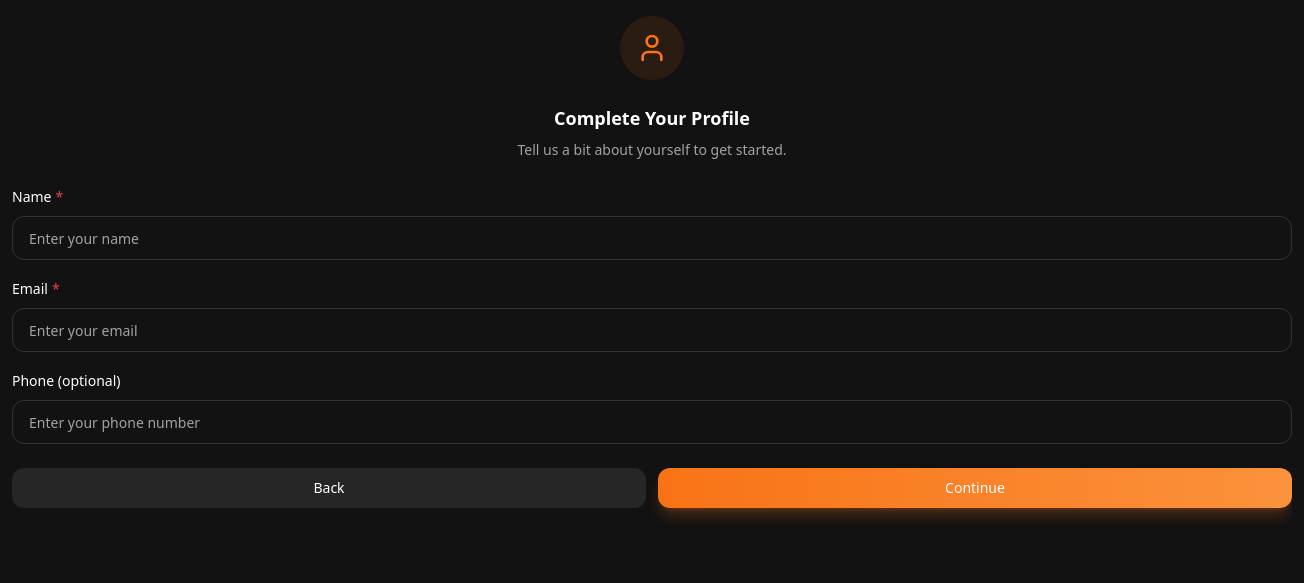
Scenario: clears a field's error once the user types in it
Click the button "Continue" at coordinates (975, 488), box [658,468,1292,508]
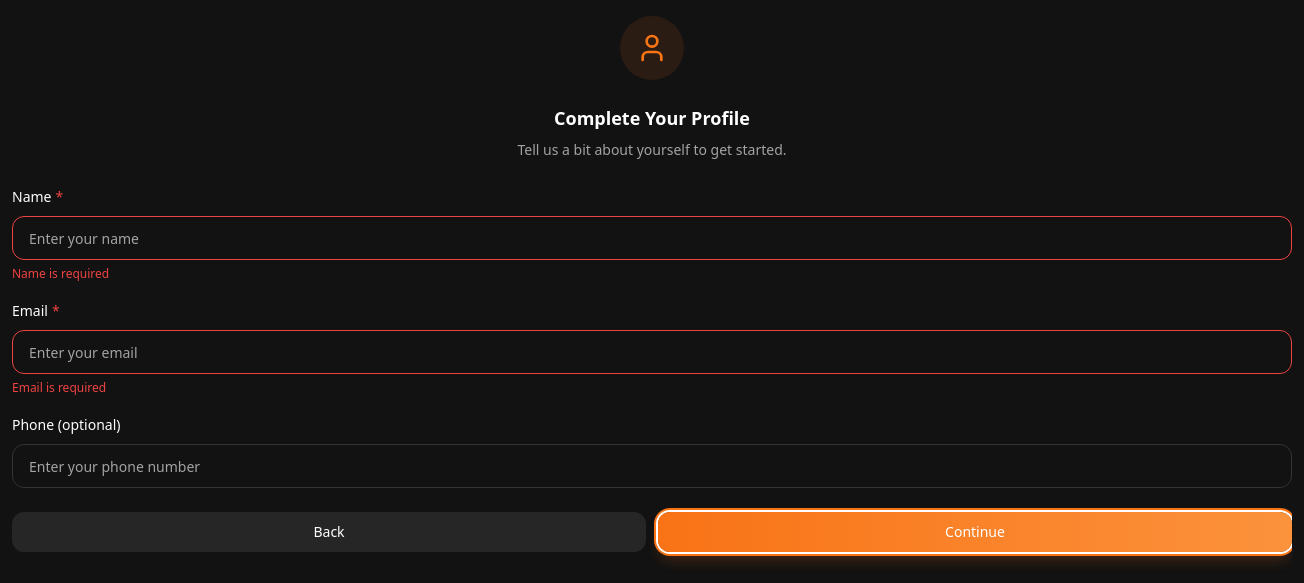
Type "A" into the field labelled "Name*" at coordinates (652, 238), box [12,216,1292,260]
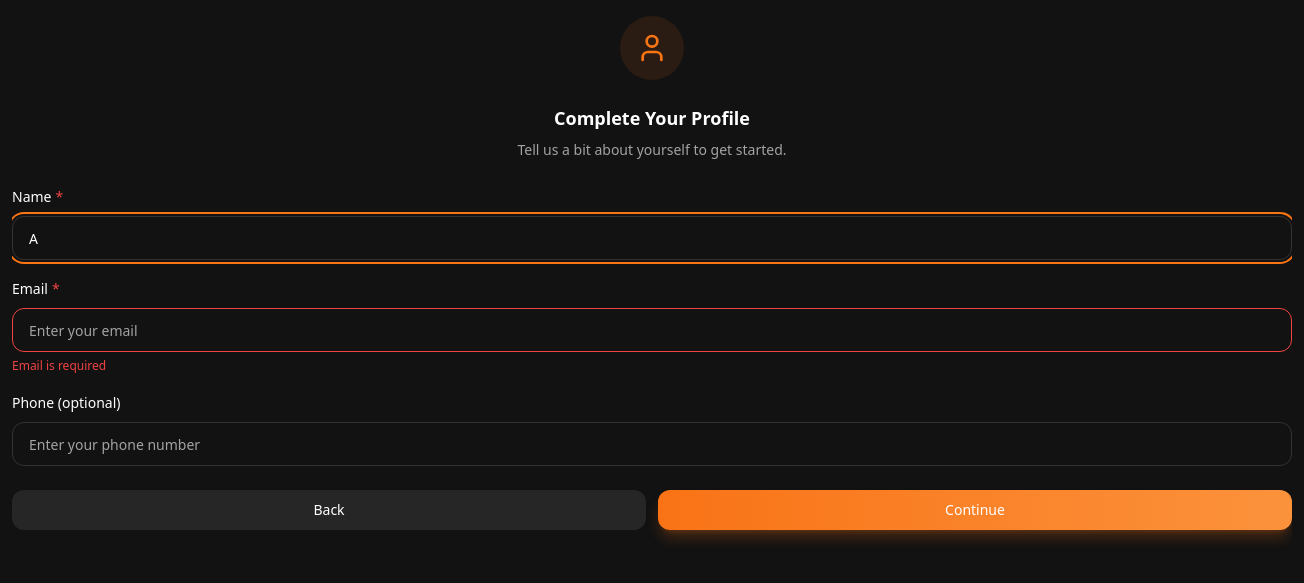
Expected: the text "Email is required" is shown, [12,357,106,374]
Expected: the text "Name is required" is gone
